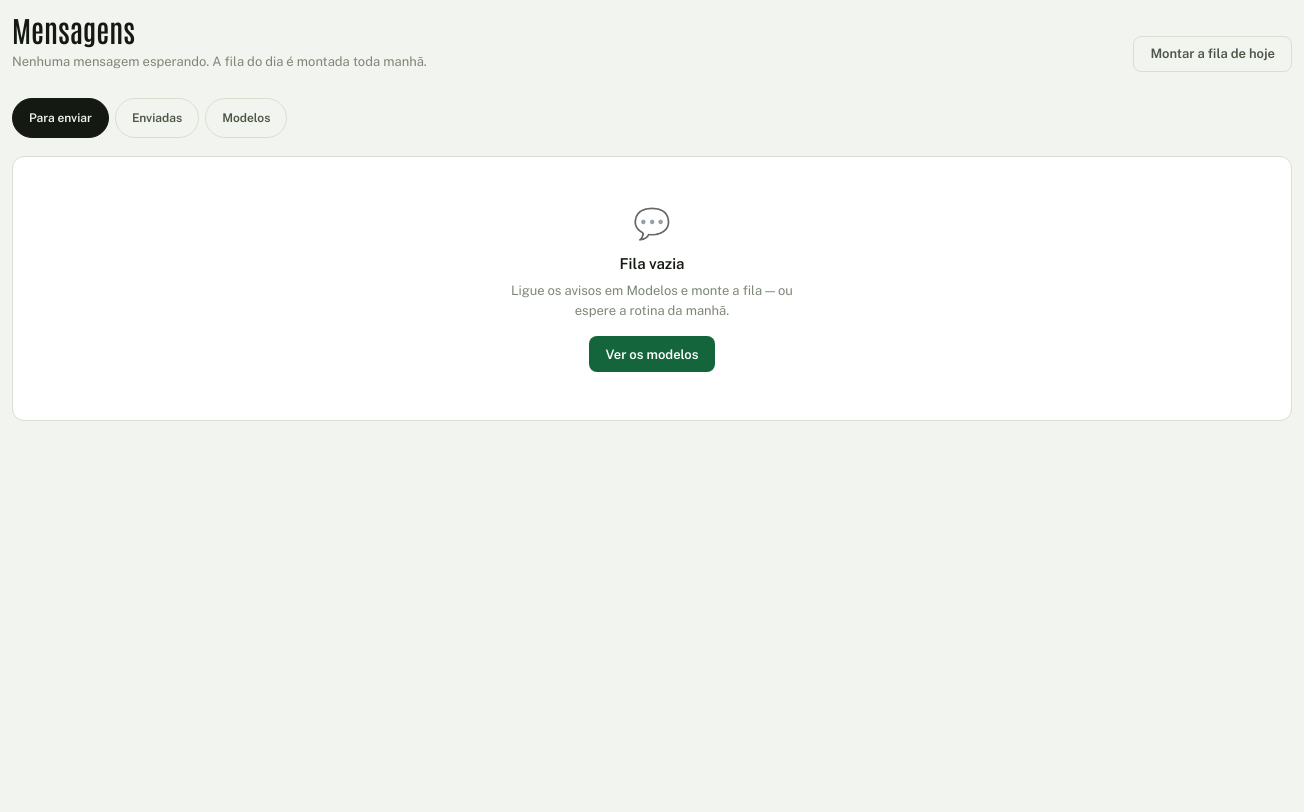
it: tela de mensagens › a aba de modelos mostra os campos que se preenchem sozinhos
Click the button "Modelos" at x=246, y=118, box [205,98,287,138]
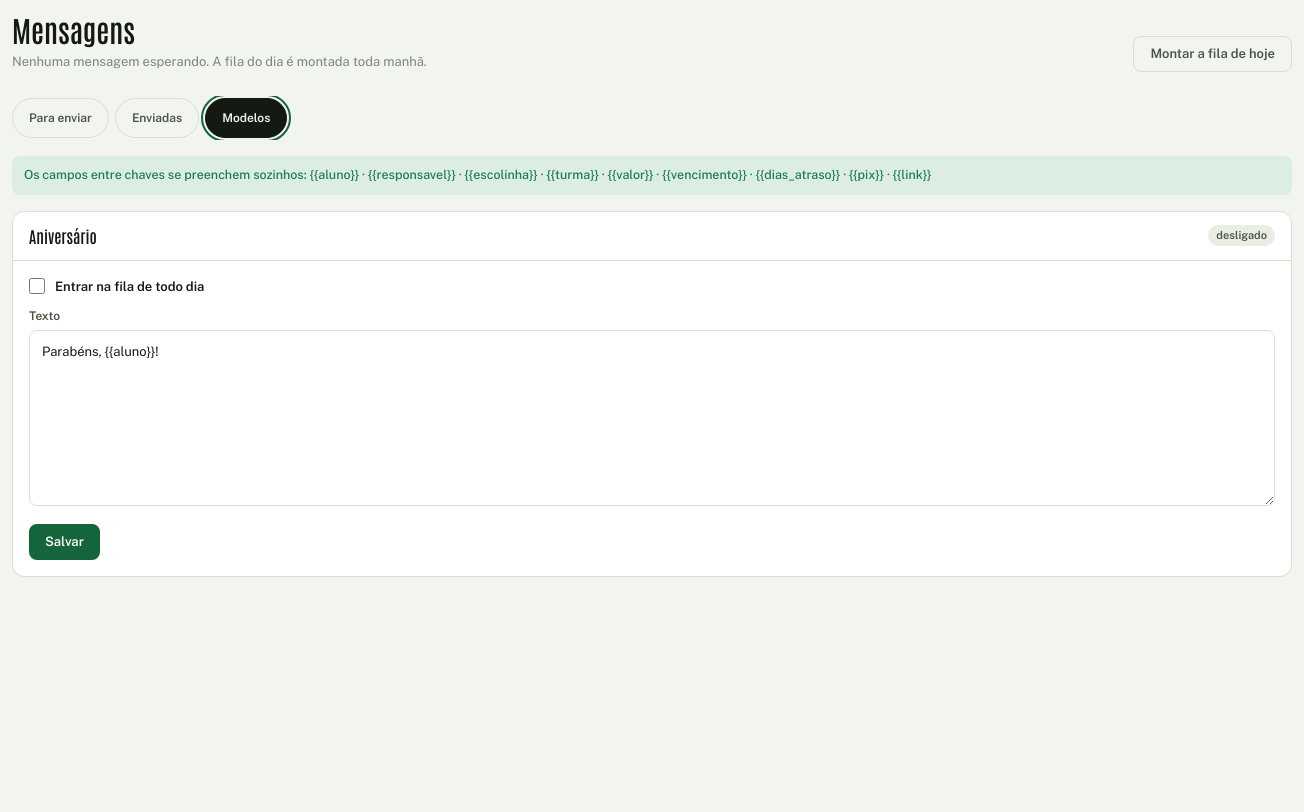
Check: the heading "Aniversário" is shown, box [29,224,97,248]
Check: the text "desligado" is shown, box [1208,225,1275,246]
Check: the text "{{responsavel}}" is shown, box [310,167,931,182]
